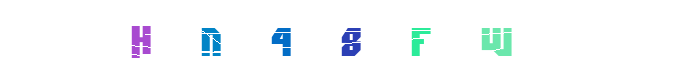4: (305, 0, 385, 80)
8: (311, 0, 391, 80)
F: (377, 0, 457, 80)
H: (111, 0, 191, 80)
N: (203, 0, 283, 80)
W: (438, 0, 518, 80)
